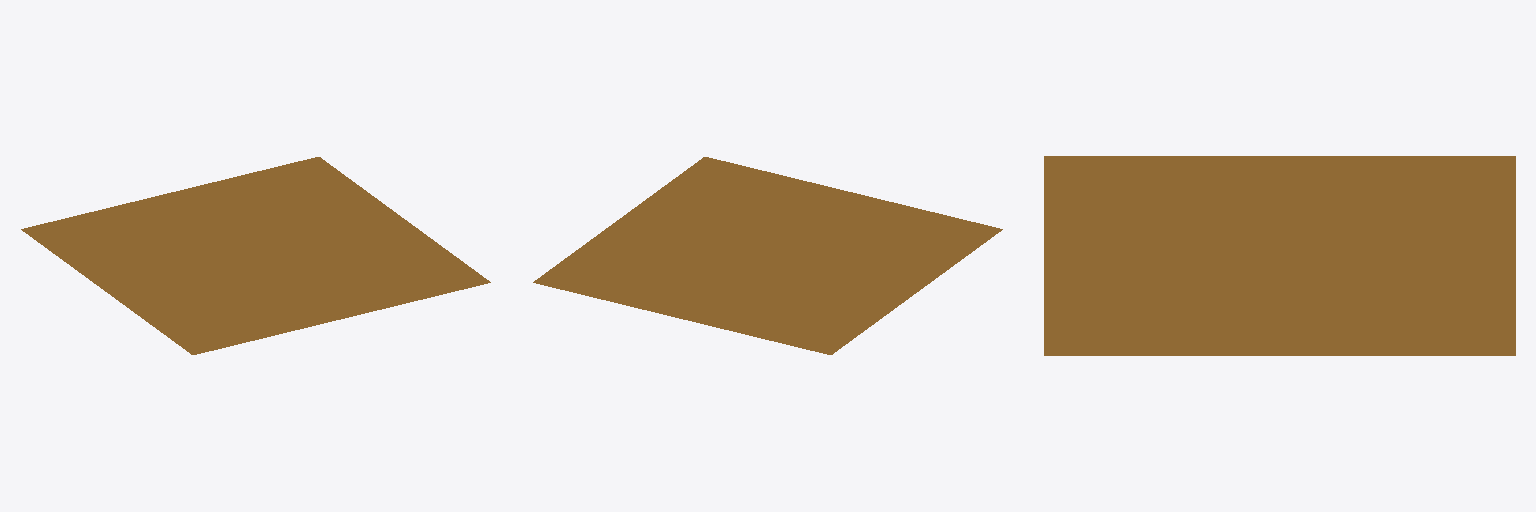
The robot description file, URDF, robot "plane":
<?xml version="1.0" ?>
<robot name="plane">
  <link name="planeLink">
  <contact>
      <lateral_friction value="1"/>
  </contact>
    <inertial>
      <origin rpy="0 0 0" xyz="0 0 0"/>
       <mass value=".0"/>
       <inertia ixx="0" ixy="0" ixz="0" iyy="0" iyz="0" izz="0"/>
    </inertial>
    <visual>
      <origin rpy="0 0 0" xyz="0 0 0"/>
      <geometry>
		<mesh filename="meshes/plane/plane.obj" scale="1 1 1"/>
      </geometry>
      <material name="mars">
        <color rgba="0.640000 0.472294 0.236407 1"/>
      </material>
    </visual>
    <collision>
      <origin rpy="0 0 0" xyz="0 0 -5"/>
      <geometry>
	 	<box size="30 30 10"/>
      </geometry>
    </collision>
  </link>
</robot>

--- Render facts (derived) ---
3 views of the same robot in one strip: view 1: azimuth 30°, elevation 25°; view 2: azimuth 150°, elevation 25°; view 3: azimuth 270°, elevation 25° (orthographic).
Robot: plane — 1 links, 0 joints (none); root link planeLink; default pose: all joints at 0.
Visible links, largest first — view 1: planeLink; view 2: planeLink; view 3: planeLink.
Boxes of the visible links, <box> form: planeLink: <box>21,157,490,354</box>; planeLink: <box>533,157,1002,354</box>; planeLink: <box>1044,156,1515,355</box>.
Size in the robot's own frame: 30 by 30 by 0 metres.
1 mesh visuals loaded from 1 distinct referenced files (1 OBJ).
